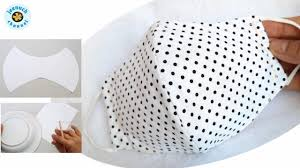cloth_mask: (85, 13, 300, 156)
